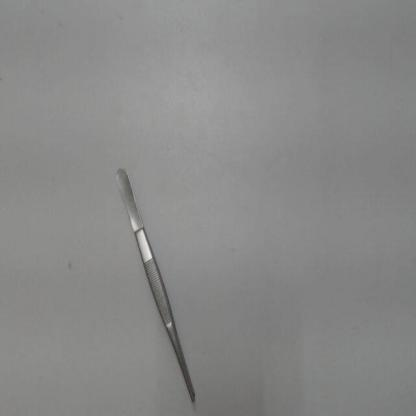Gillies Toothed Dissector: (110, 151, 206, 410)
